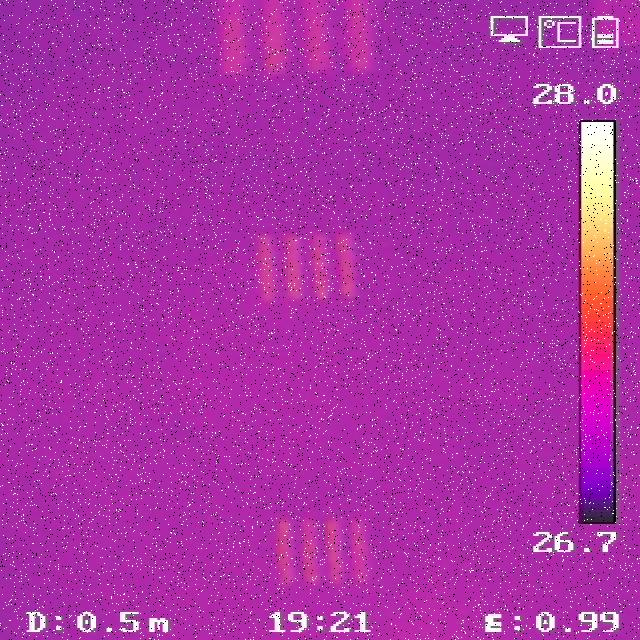Distinguishable 4-bar target: (213, 5, 375, 74), (257, 228, 363, 301), (275, 519, 376, 585)
